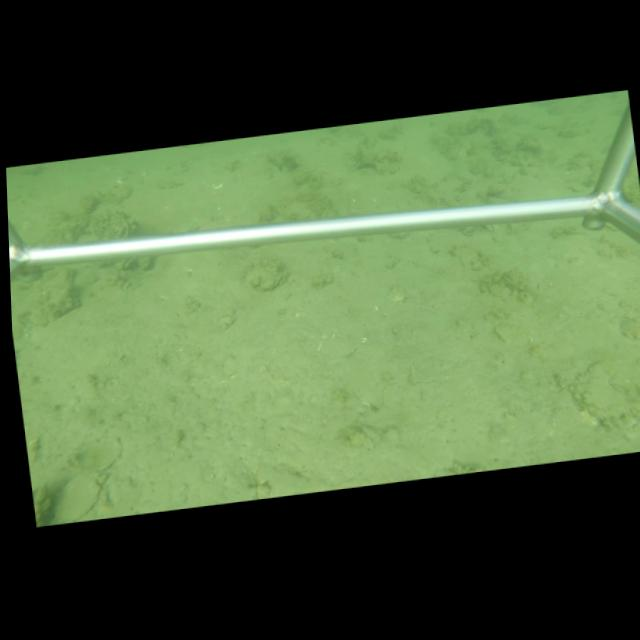Oyster-Indeterminate: (246, 262, 284, 294)
